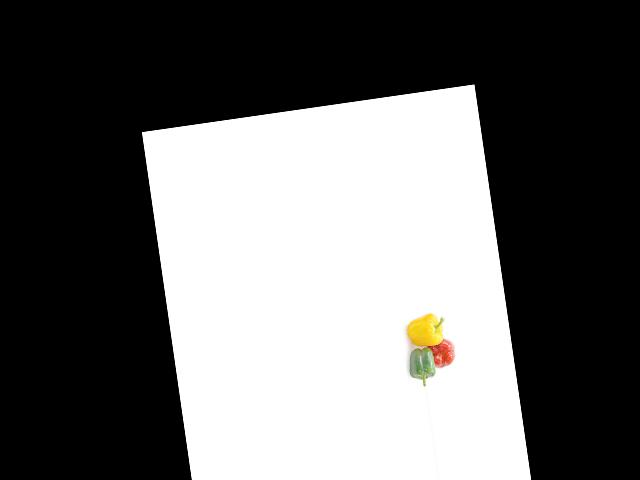bell_pepper: (405, 339, 441, 385)
